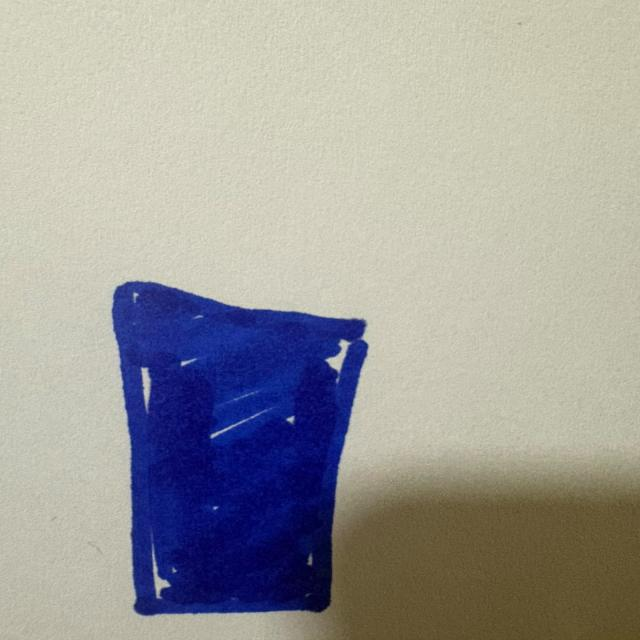Rectangle: (100, 278, 374, 626)
